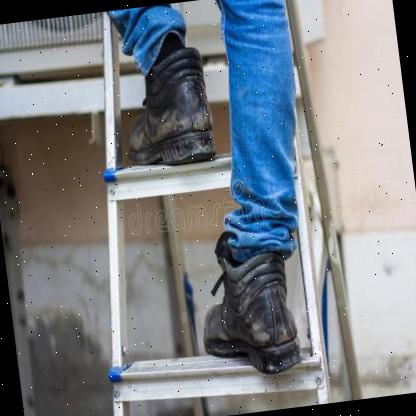bota: (190, 220, 308, 386), (113, 41, 220, 172)
